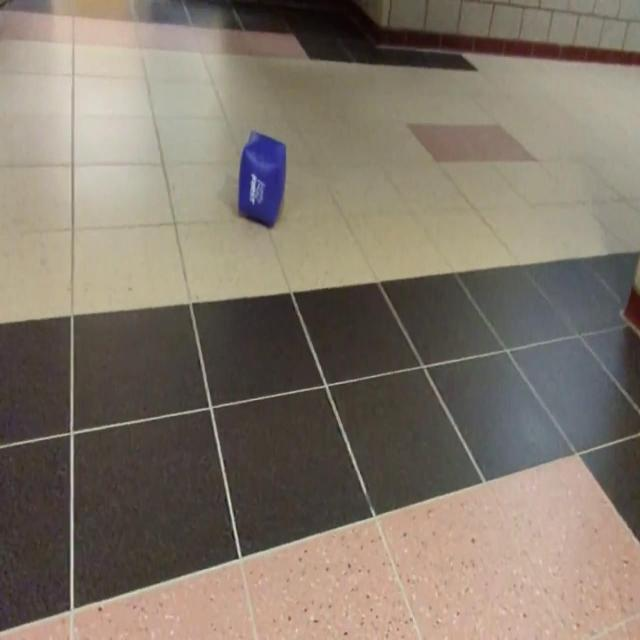frc_cube: (238, 133, 286, 227)
